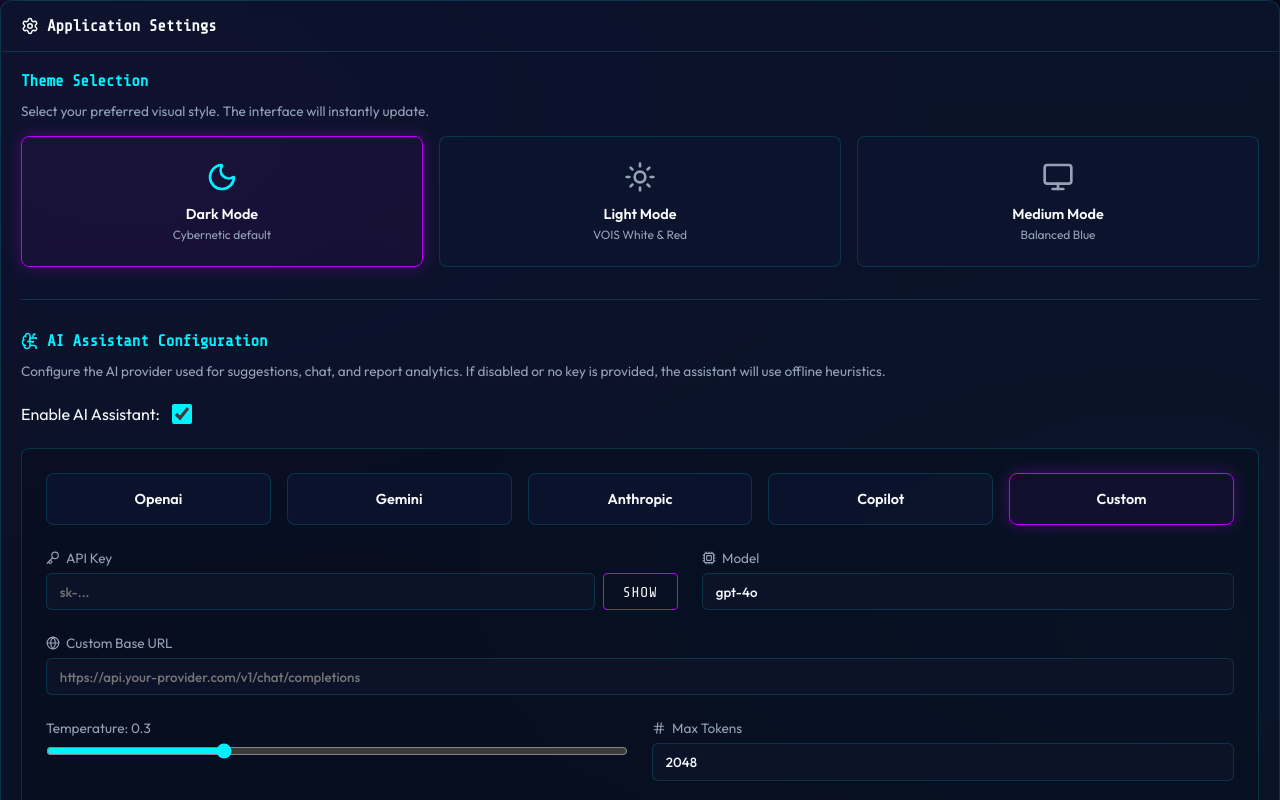
Scenario: Settings View Component › handles connection test failures and renders descriptive error message in UI
# Click OpenAI provider card
Click the text "openai".
click(158, 499)  # box [134,490,182,508]
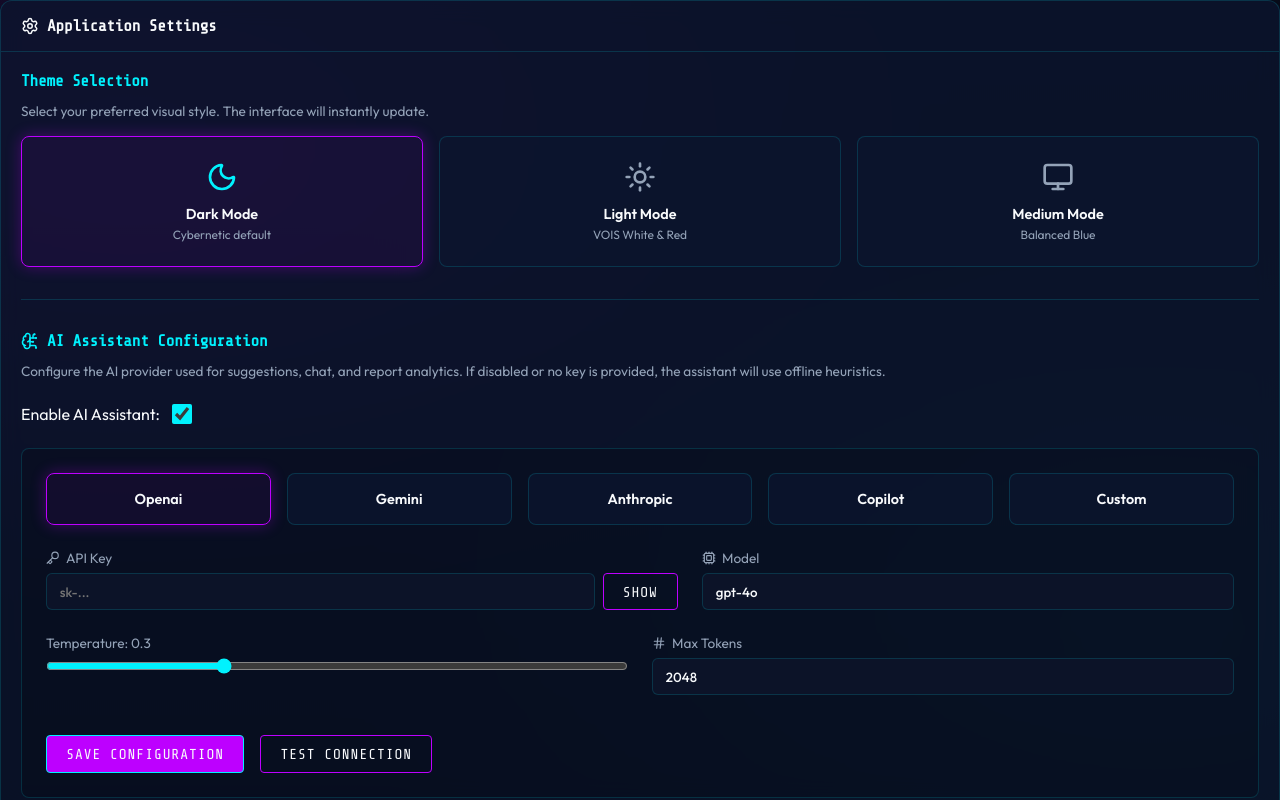
# Enter API key
Type "sk-invalid-key-test" into the password field with placeholder "sk-...".
click(320, 592); type("sk-invalid-key-test")  # box [46,573,594,610]
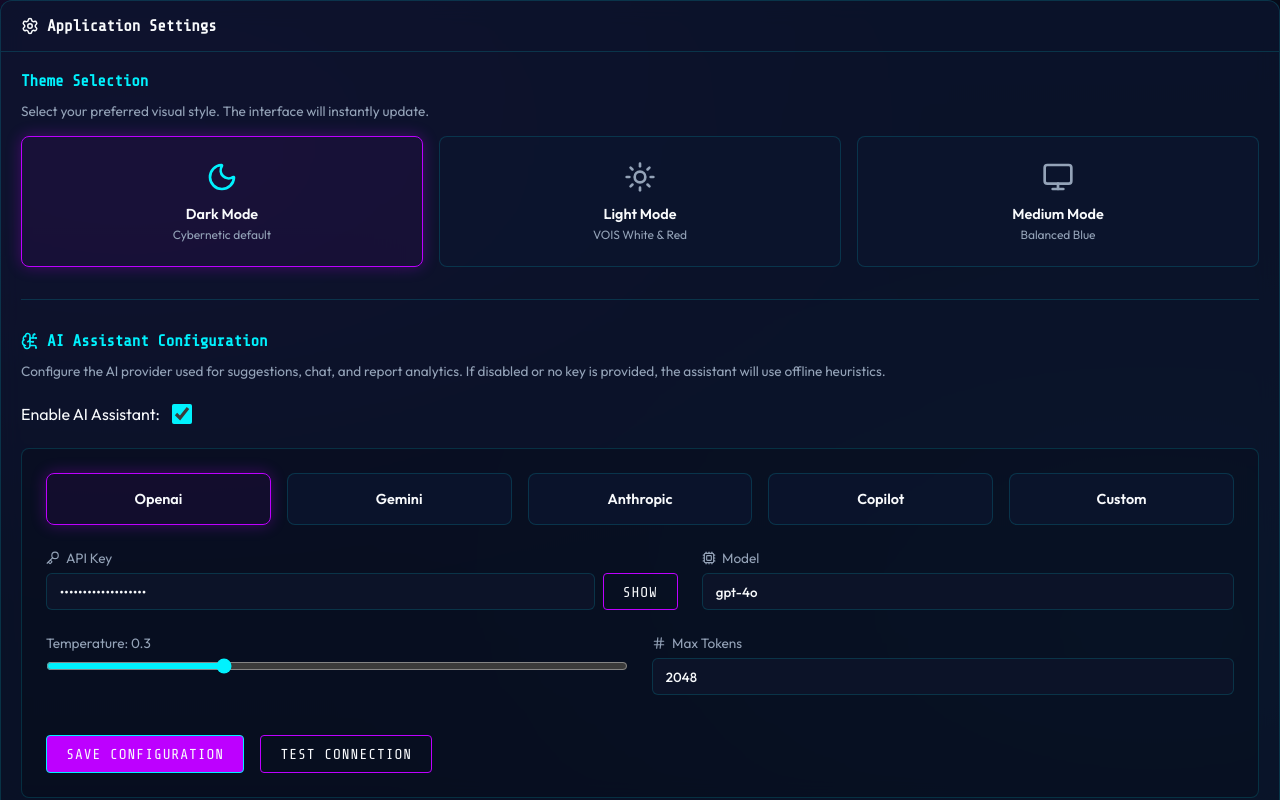
Click the button "Test Connection".
click(346, 754)  # box [260,735,432,773]
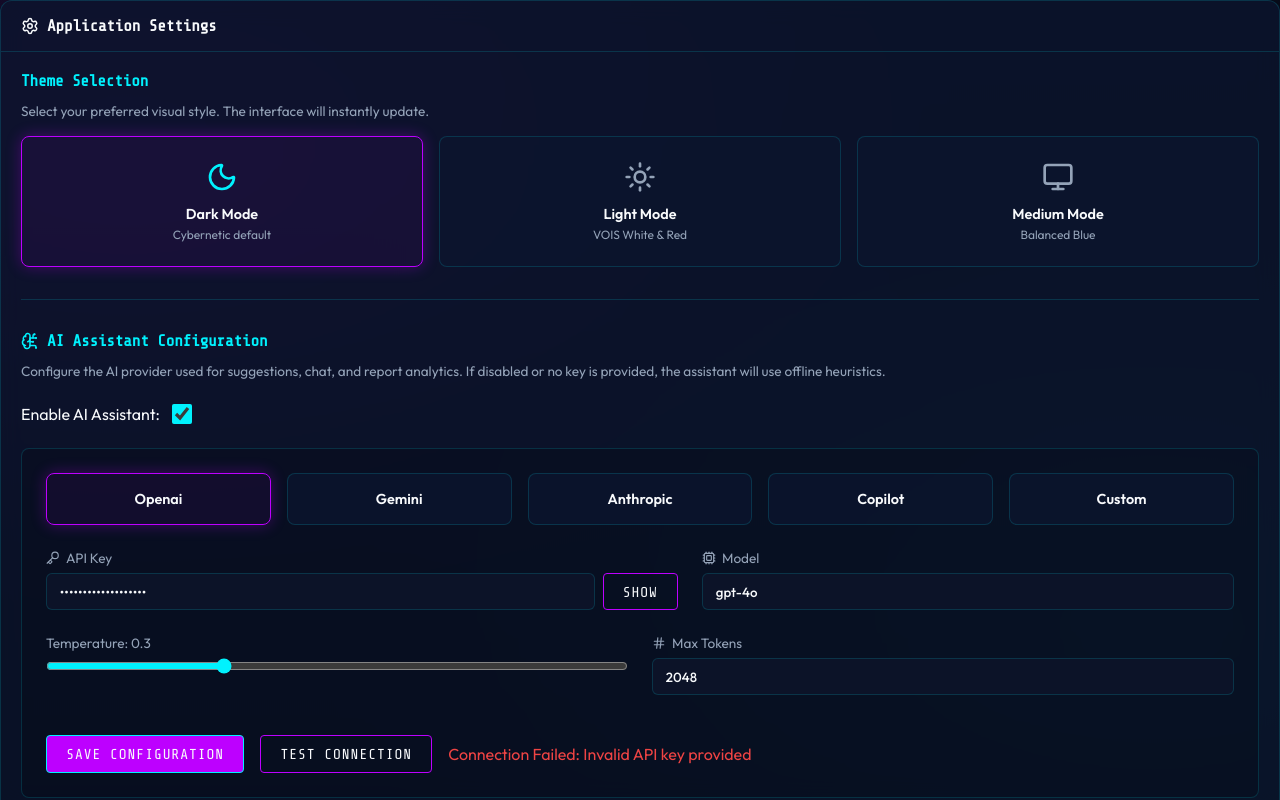
Check: the text "Connection Failed: Invalid API key provided" is shown, box [448,744,751,764]
Check: the text with test id "test-error-message" shows "Invalid API key provided", box [583,744,752,764]
